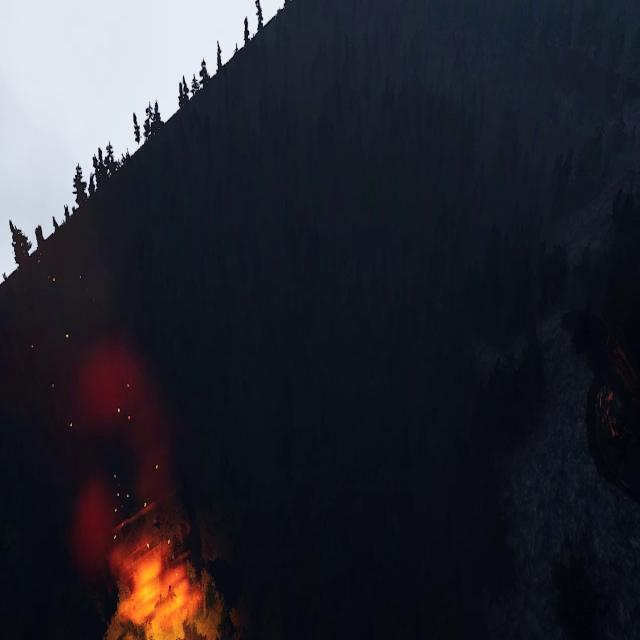fire: (126, 524, 200, 631)
smoke: (66, 344, 185, 626)
